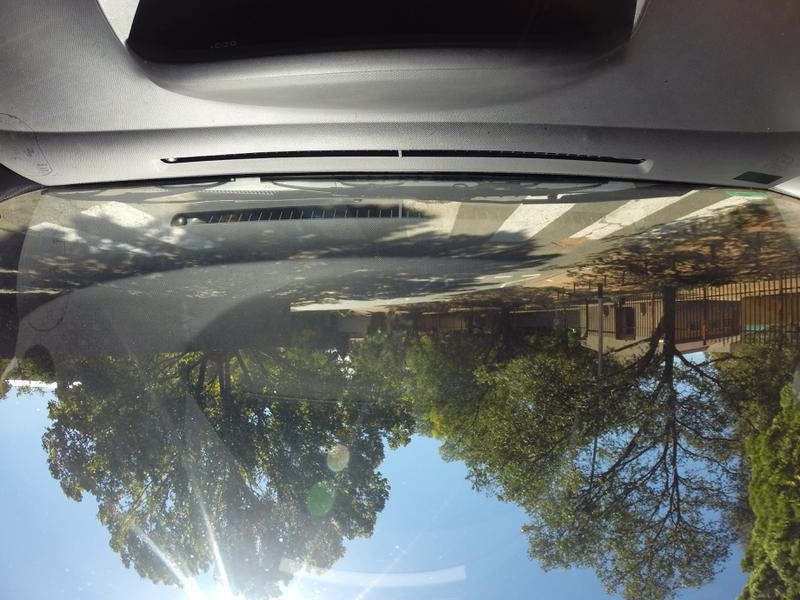pothole: (552, 231, 585, 248)
